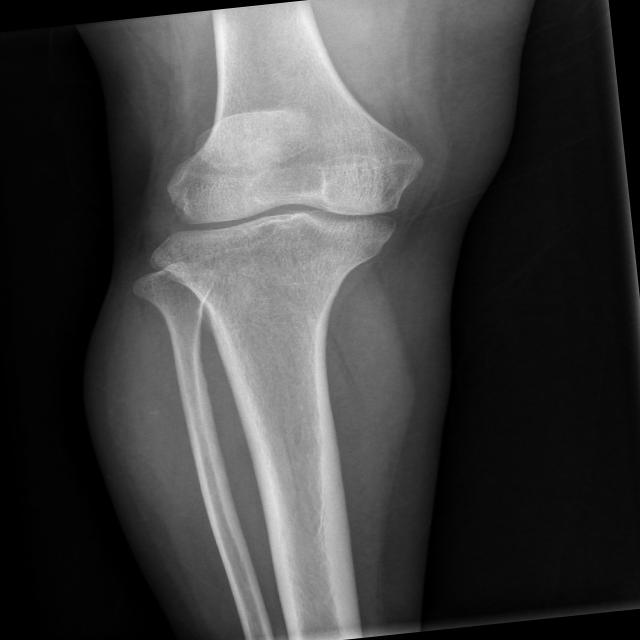Knee: (134, 106, 436, 294)
